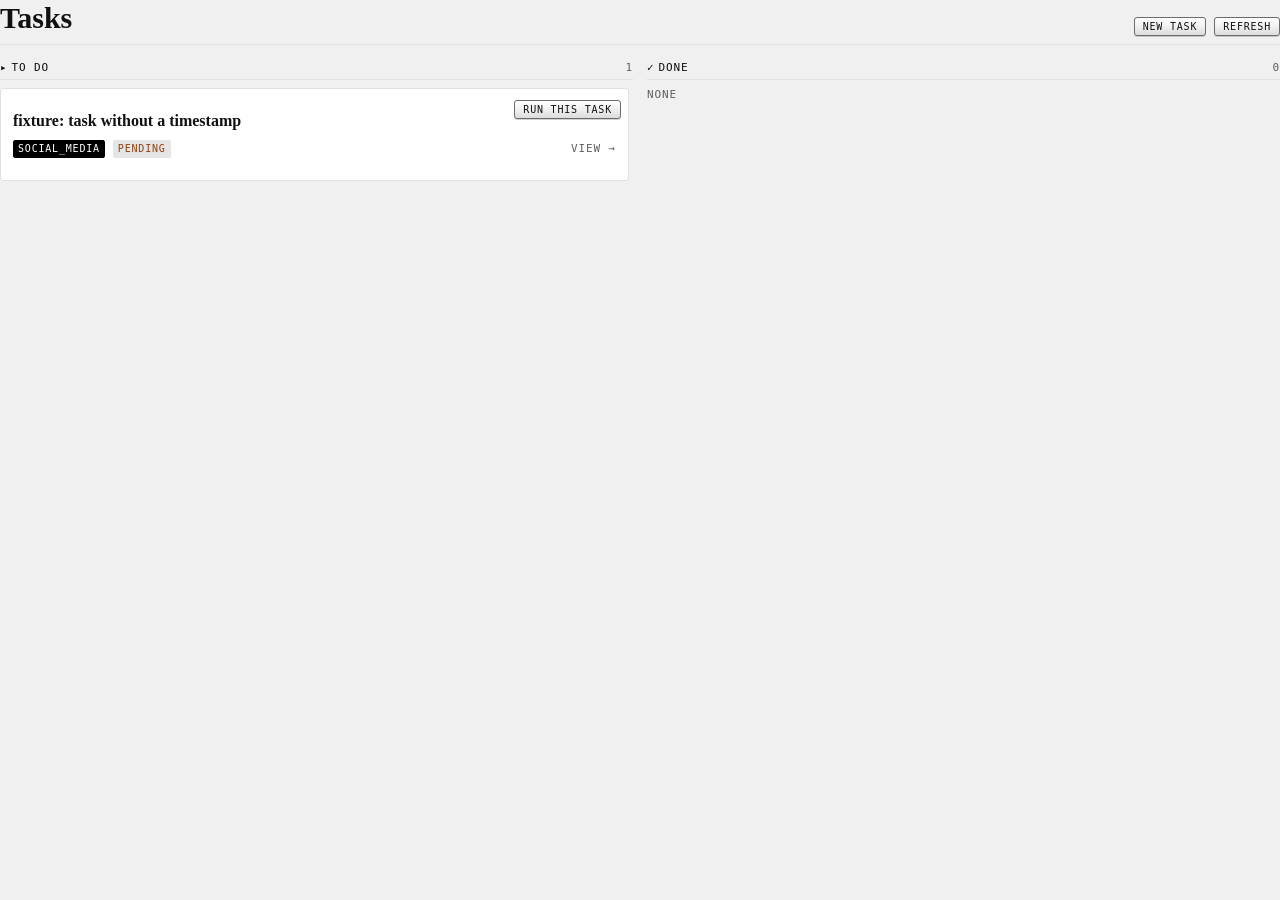
Test: TasksPage › renders a null created_at as the placeholder, never as an invalid date
Click the button with aria-label "Open task: fixture: task without a timestamp" at (127, 121), box x1=0 y1=88 x2=629 y2=181
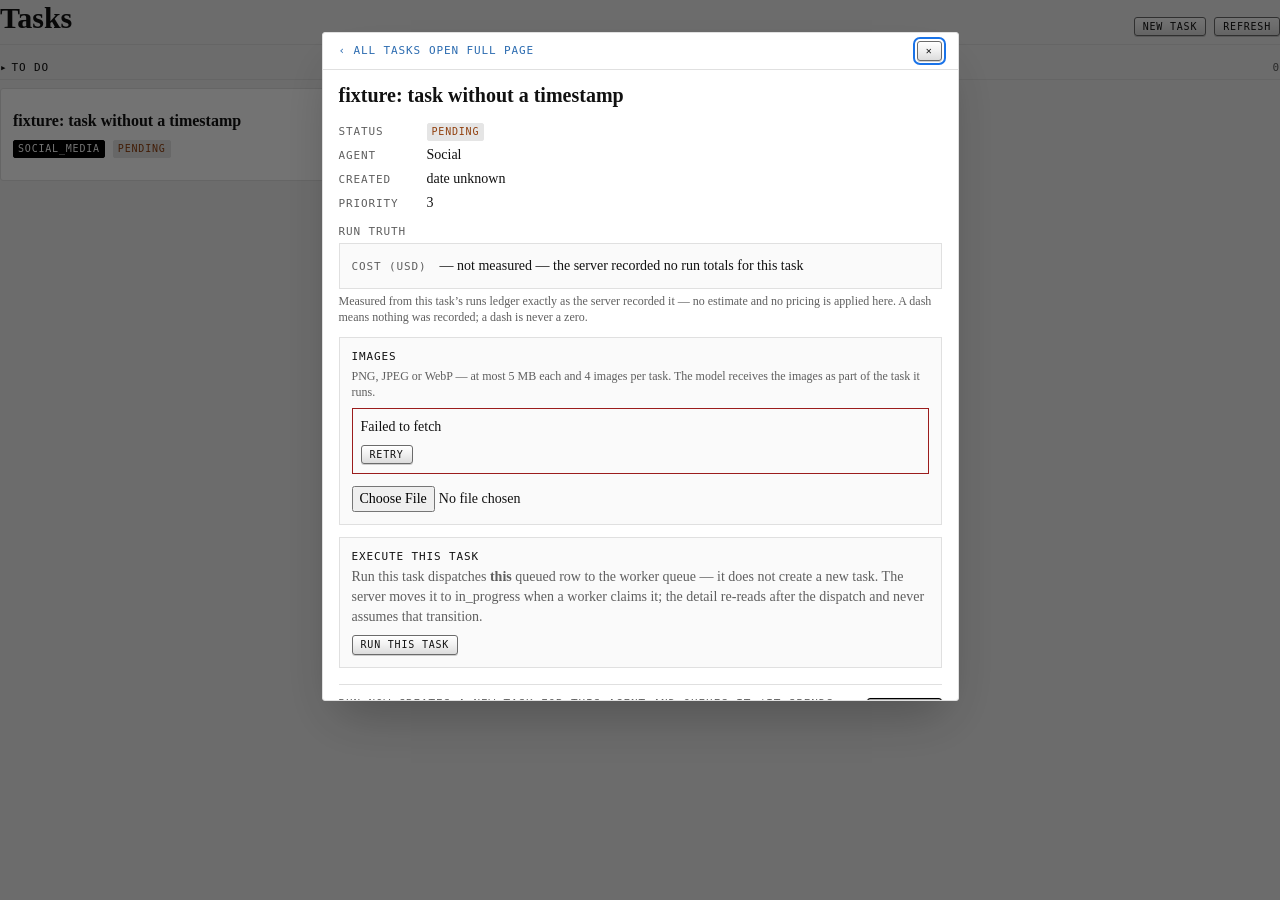
Expected: the text "date unknown" is shown, x1=426 y1=171 x2=505 y2=186
